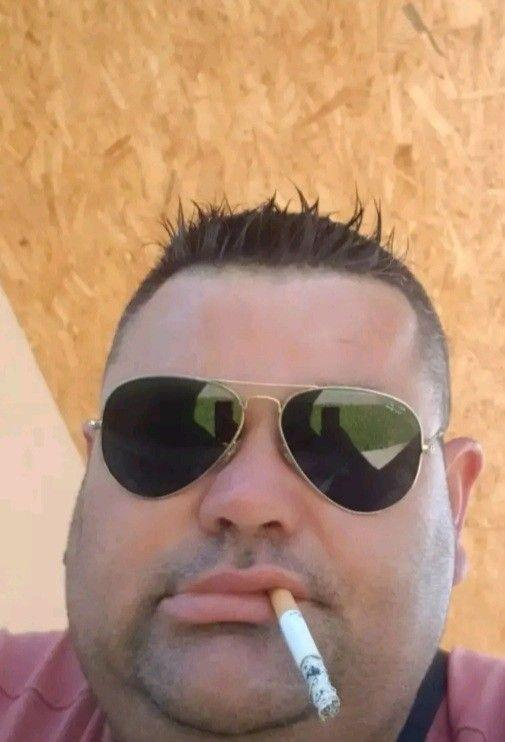cigarette: (268, 588, 340, 723)
